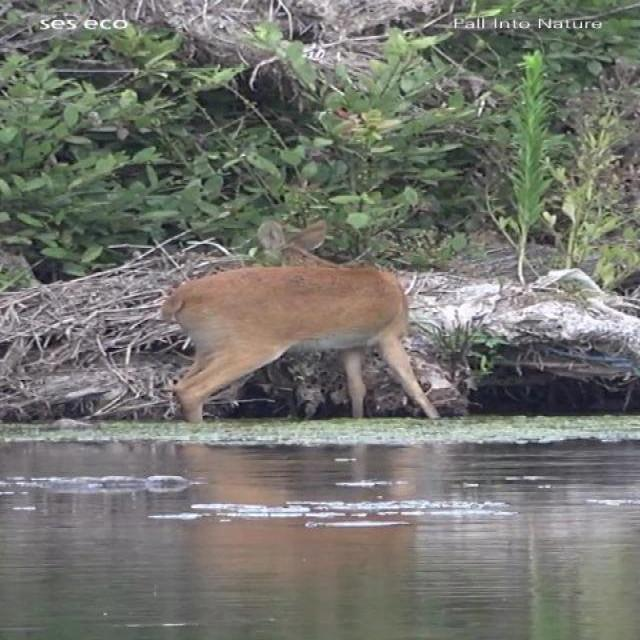deer: (153, 219, 450, 417)
